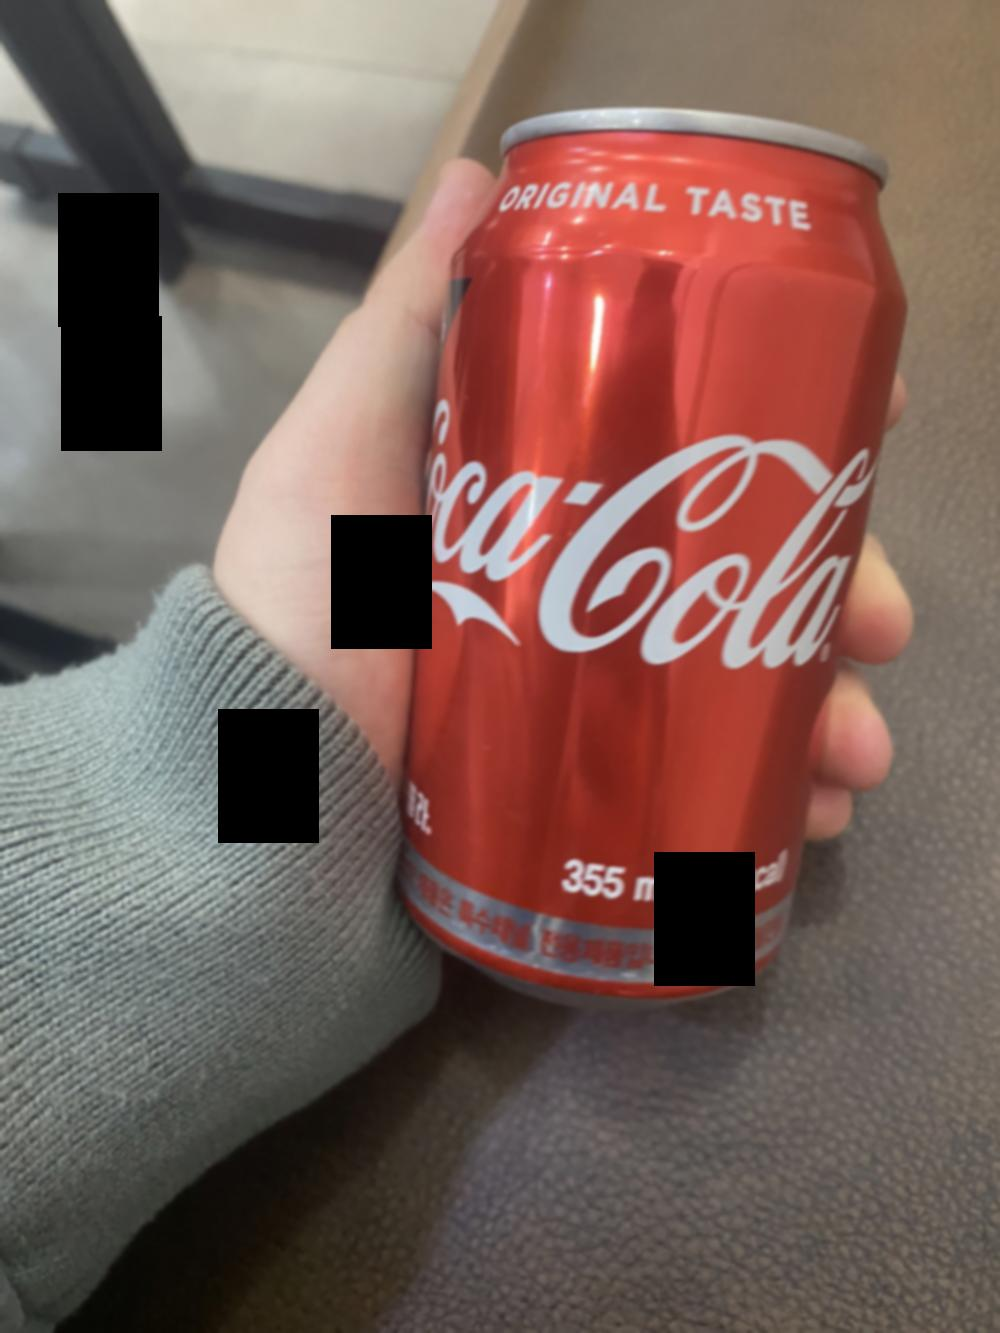cocacola: (395, 114, 914, 1005)
